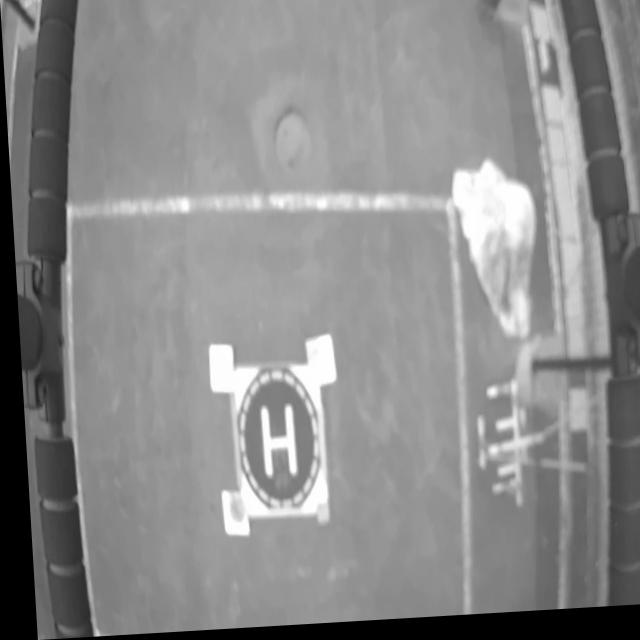Helipad: (255, 407, 293, 482)
